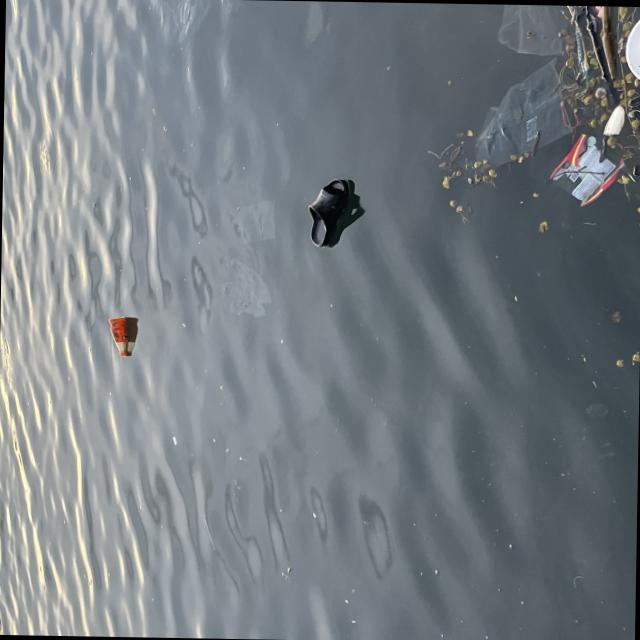foam: (623, 5, 640, 82), (602, 102, 626, 134)
plastic: (106, 315, 130, 355)
plastic bottle: (474, 55, 568, 171), (551, 134, 619, 206), (496, 3, 568, 53), (212, 258, 271, 316), (229, 199, 276, 240)
unknow: (308, 178, 348, 243)
